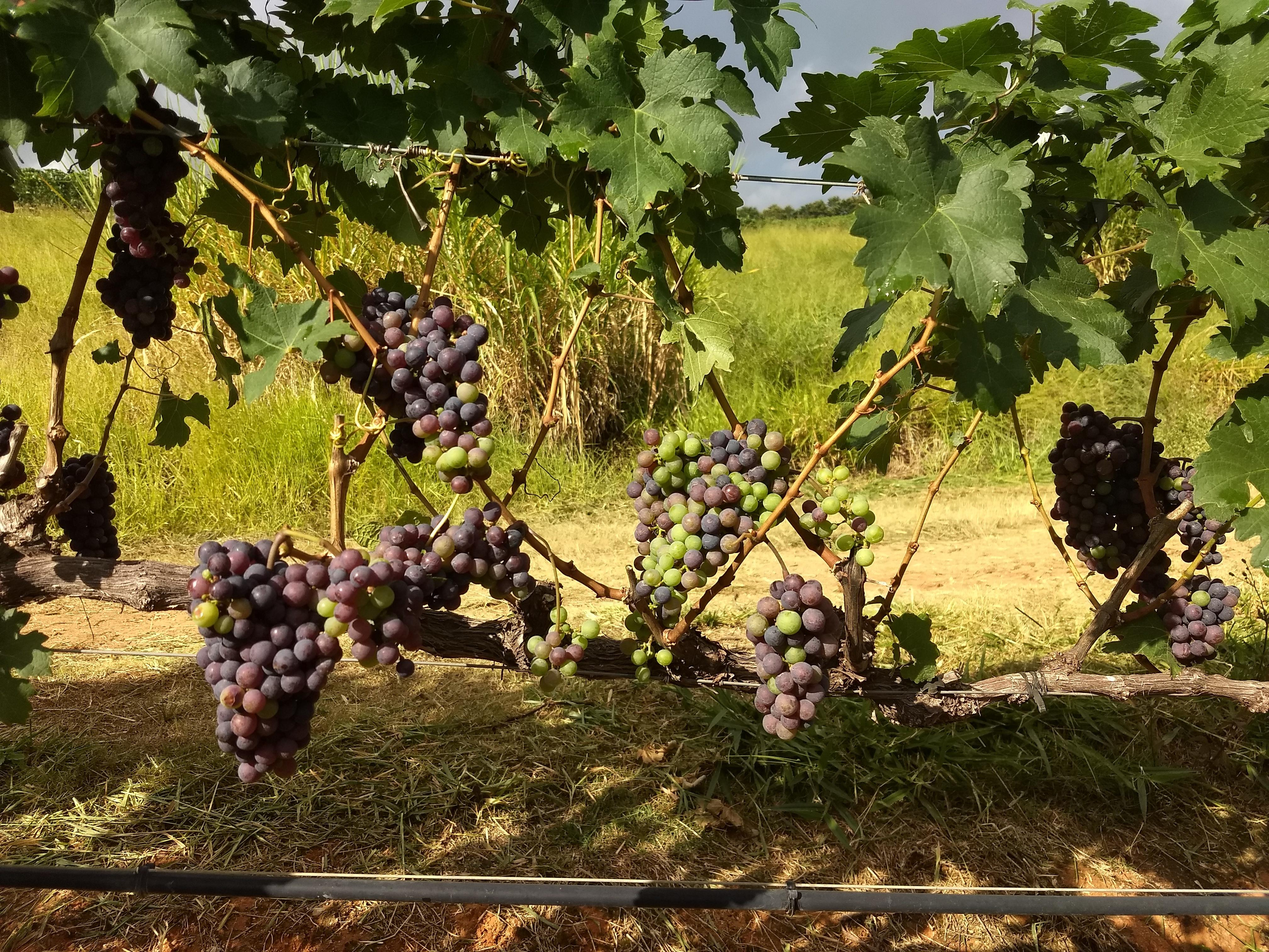leaf: (834, 117, 1025, 316), (551, 37, 738, 224), (18, 0, 197, 116), (1138, 180, 1268, 333), (213, 259, 351, 403), (760, 71, 928, 164), (1001, 256, 1130, 369), (1193, 396, 1268, 519), (198, 57, 299, 146), (875, 17, 1021, 78), (953, 314, 1032, 414), (714, 0, 802, 89), (0, 608, 50, 724), (1100, 612, 1179, 674), (194, 302, 240, 408), (832, 297, 895, 372), (150, 378, 210, 448), (888, 612, 940, 682), (1235, 503, 1268, 566), (91, 339, 123, 365), (1125, 602, 1141, 610), (803, 14, 804, 15), (962, 312, 962, 313)
